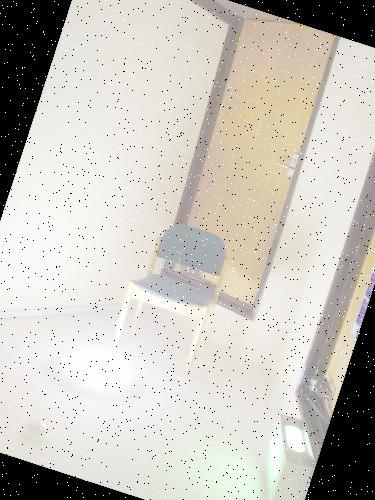Silla: (104, 220, 236, 384)
